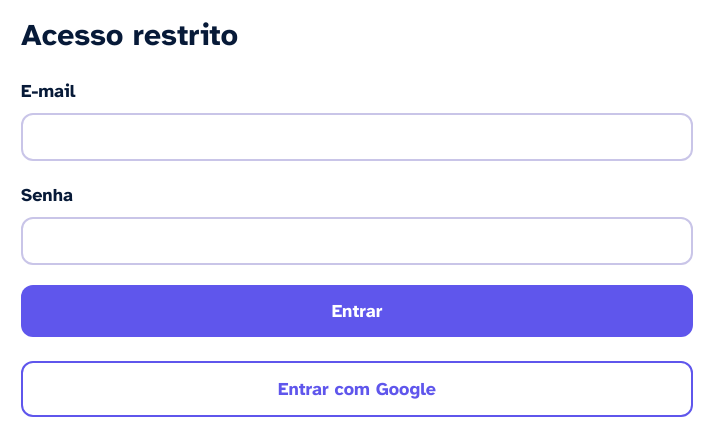
Test case: /demo: entrada › estado responde 404: mostra "não encontrada" e sai da conta
Type "admin@exemplo.test" into the field labelled "E-mail" at x=357, y=137, box [21, 113, 693, 161]
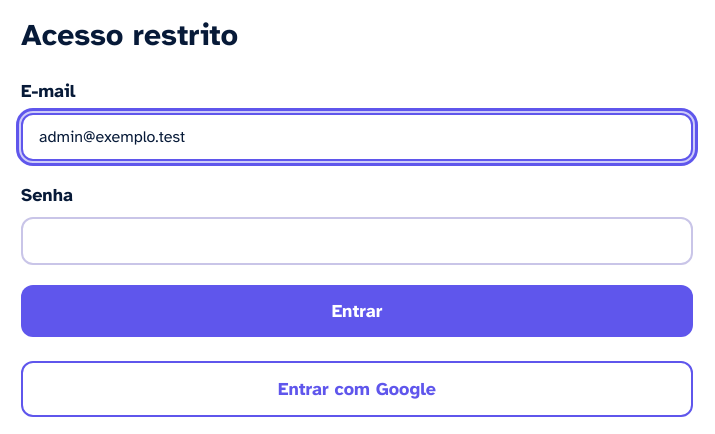
Type "senha-ficticia" into the password field labelled "Senha" at x=357, y=241, box [21, 217, 693, 265]
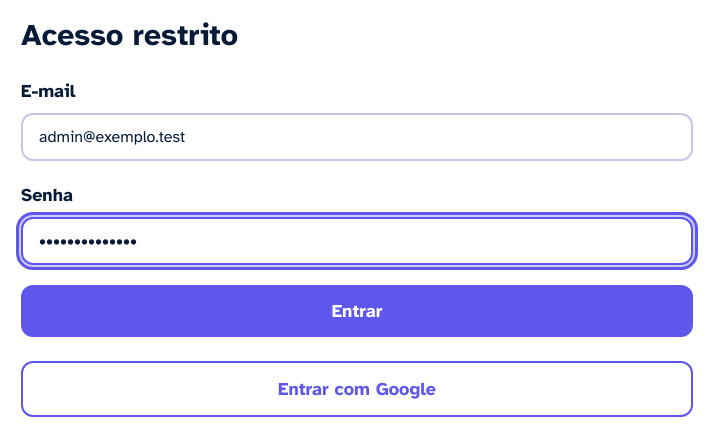
Click the button "Entrar" at x=357, y=311, box [21, 285, 693, 337]
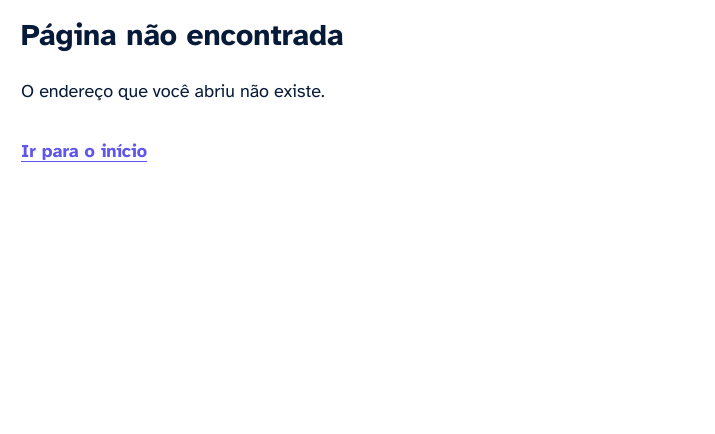
Check: the heading "Página não encontrada" is shown, box [21, 16, 344, 54]
